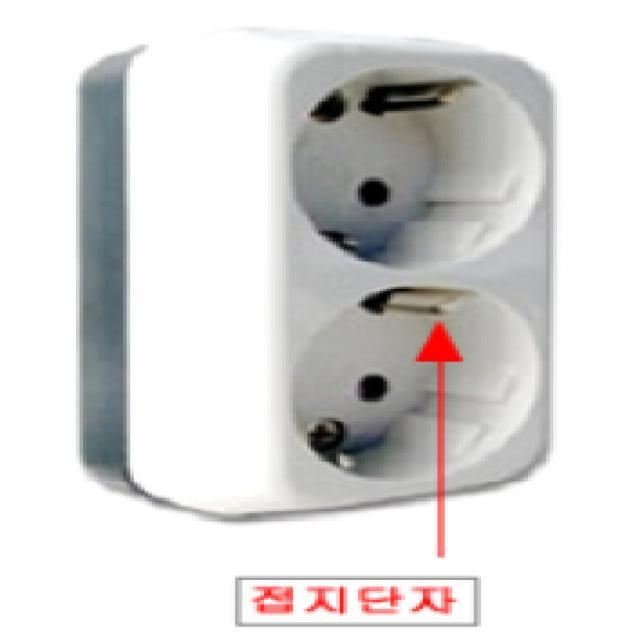typeb: (50, 16, 598, 535)
